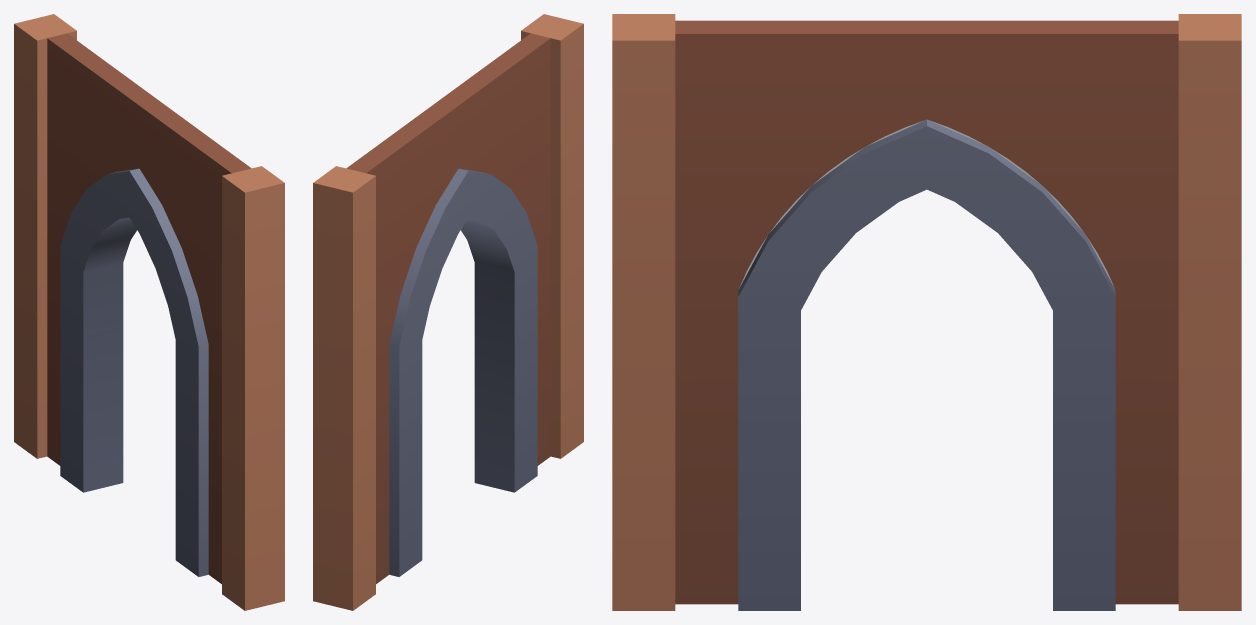
The model's file is wall-wood-doorway-round.glb.
The picture shows the model from 3 angles, left to right: view 1: azimuth 30°, elevation 25°; view 2: azimuth 150°, elevation 25°; view 3: azimuth 270°, elevation 25°; orthographic projection. The views are drawn at different scales.
Visible parts, largest first — view 1: wall-wood-doorway-round; view 2: wall-wood-doorway-round; view 3: wall-wood-doorway-round.
Boxes of the visible parts, x1,y1,x2,y2 form: wall-wood-doorway-round: (14,14,284,610); wall-wood-doorway-round: (313,14,583,610); wall-wood-doorway-round: (612,14,1241,610).
Bounding box in the file's own units: 0.1 × 1 × 1.
Materials: 1 (1 with a texture image).
